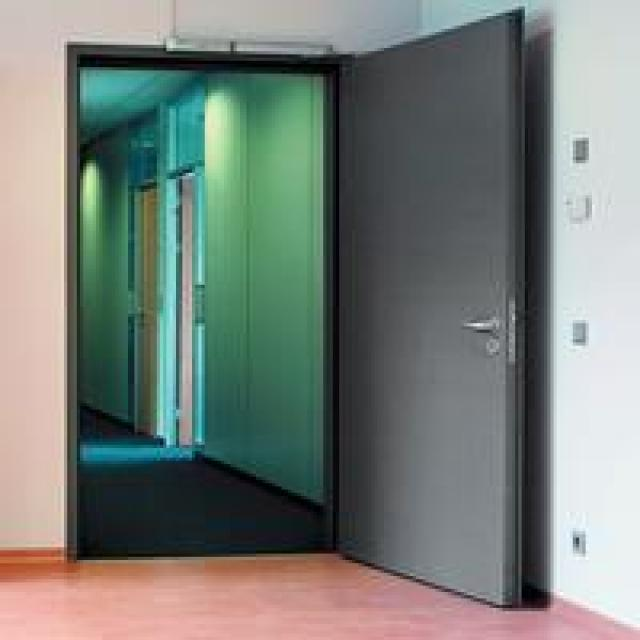open: (70, 51, 520, 581)
